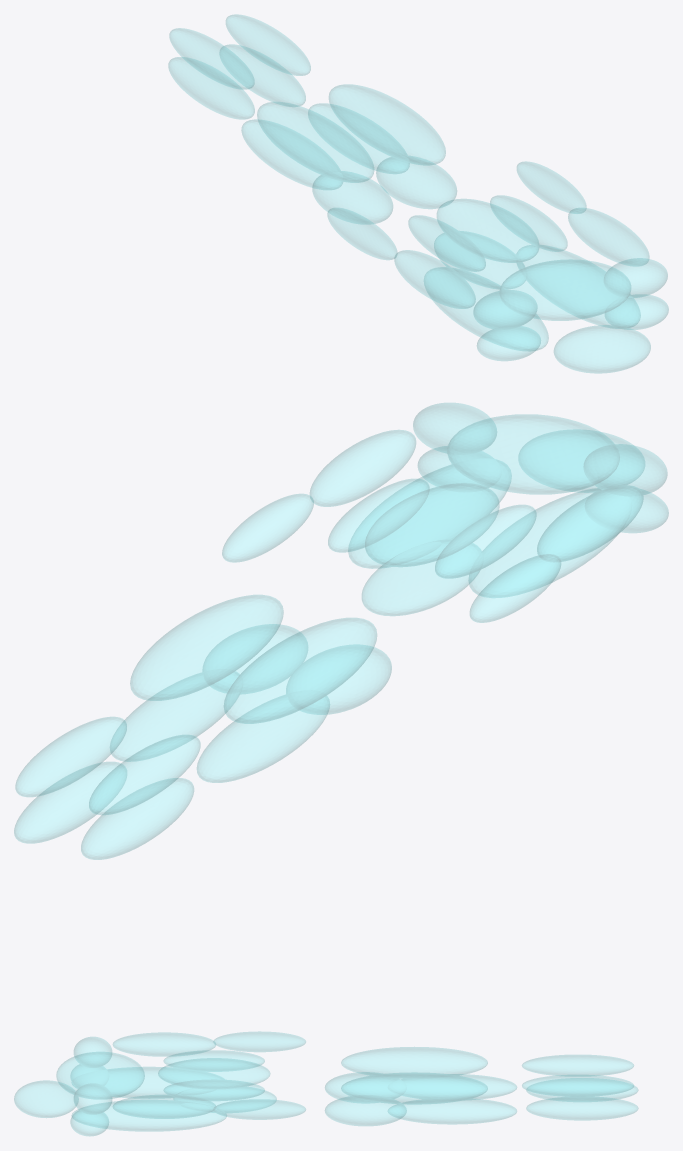
Rendered from ecorche_prepped_highlight_regions.glb.
3 renders of one model, top to bottom at view 1: azimuth 30°, elevation 25°; view 2: azimuth 150°, elevation 25°; view 3: azimuth 270°, elevation 25°, orthographic. The views are drawn at different scales.
Visible parts, largest first — view 1: Chest, RightQuad, LeftQuad, LeftLat, RightLat, Abs, RightHamstring, LeftHamstring, Traps, LowerBack, RightGlute, LeftGlute (+14 smaller); view 2: Chest, LeftQuad, RightQuad, LeftLat, Abs, RightLat, LeftHamstring, RightHamstring, LowerBack, LeftCalfBack, RightCalfBack, Traps (+14 smaller); view 3: RightQuad, LeftQuad, RightLat, Chest, Abs, RightHamstring, LeftLat, LeftHamstring, RightCalfBack, LeftCalfBack, RightGlute, LeftBiceps (+14 smaller).
Boxes of the visible parts, x1,y1,x2,y2 form: Chest: [500, 259, 630, 320]; RightQuad: [329, 84, 445, 165]; LeftQuad: [257, 102, 374, 182]; LeftLat: [424, 267, 548, 351]; RightLat: [517, 245, 640, 328]; Abs: [437, 199, 538, 262]; RightHamstring: [308, 103, 409, 173]; LeftHamstring: [241, 119, 342, 189]; Traps: [554, 325, 650, 373]; LowerBack: [434, 231, 525, 288]; RightGlute: [376, 156, 456, 208]; LeftGlute: [312, 171, 392, 223]; Chest: [447, 414, 619, 494]; LeftQuad: [224, 618, 376, 723]; RightQuad: [130, 595, 283, 700]; LeftLat: [468, 488, 620, 597]; Abs: [365, 483, 499, 566]; RightLat: [348, 460, 511, 568]; LeftHamstring: [197, 693, 329, 782]; RightHamstring: [110, 671, 240, 761]; LowerBack: [362, 539, 481, 615]; LeftCalfBack: [81, 778, 193, 859]; RightCalfBack: [14, 762, 126, 843]; Traps: [519, 430, 644, 492]; RightQuad: [341, 1072, 487, 1104]; LeftQuad: [341, 1047, 487, 1078]; RightLat: [71, 1100, 226, 1131]; Chest: [56, 1052, 144, 1099]; Abs: [158, 1058, 270, 1088]; RightHamstring: [388, 1098, 516, 1124]; LeftLat: [72, 1067, 223, 1098]; LeftHamstring: [401, 1074, 516, 1099]; RightCalfBack: [526, 1096, 638, 1120]; LeftCalfBack: [526, 1078, 638, 1101]; RightGlute: [325, 1095, 406, 1125]; LeftBiceps: [113, 1032, 215, 1056].
Size of the model in its own units: 21.45 by 8.33 by 60.5.
